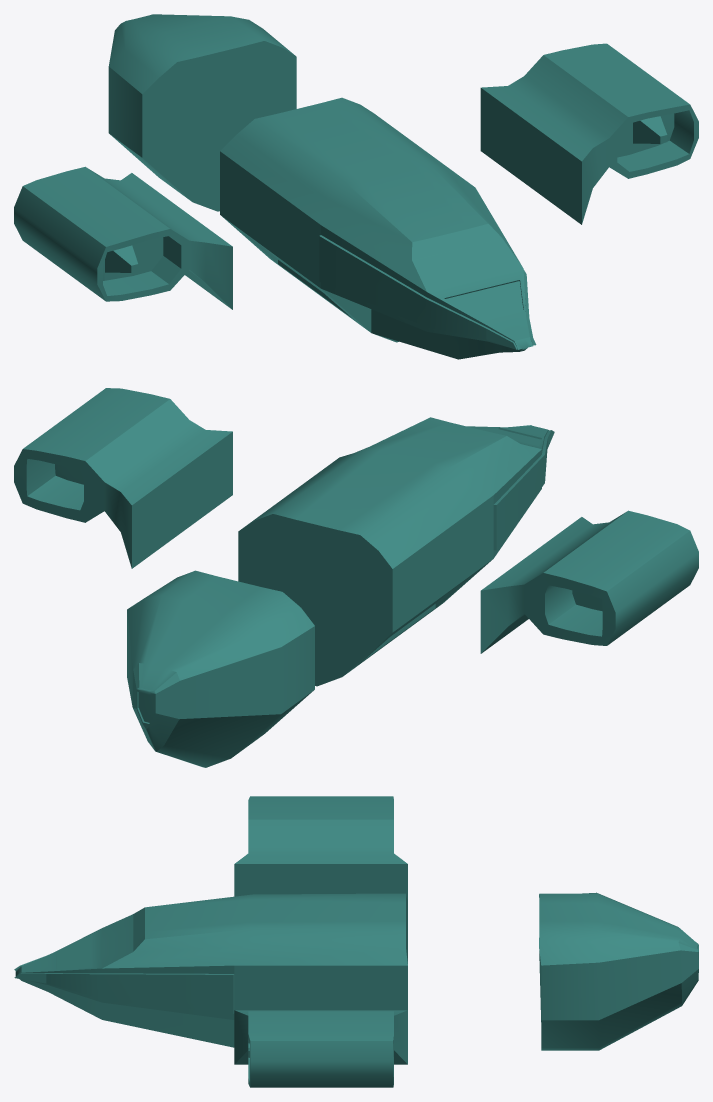
The model's file is DestroyedAllyBomber.fbx.
The picture shows the model from 3 angles, top to bottom: view 1: azimuth 30°, elevation 25°; view 2: azimuth 150°, elevation 25°; view 3: azimuth 270°, elevation 25°; orthographic projection. The views are drawn at different scales.
Parts seen in each view (by area): view 1: polySurface32, polySurface30, polySurface33, polySurface28; view 2: polySurface32, polySurface30, polySurface33, polySurface28; view 3: polySurface32, polySurface30, polySurface28, polySurface33.
Part boxes in pixels (bbox=[...]): polySurface32: bbox=[220, 97, 536, 359]; polySurface30: bbox=[108, 14, 296, 211]; polySurface33: bbox=[480, 43, 698, 224]; polySurface28: bbox=[14, 166, 232, 309]; polySurface32: bbox=[238, 417, 554, 686]; polySurface30: bbox=[127, 570, 314, 767]; polySurface33: bbox=[14, 388, 232, 568]; polySurface28: bbox=[480, 510, 698, 653]; polySurface32: bbox=[14, 893, 407, 1047]; polySurface30: bbox=[539, 892, 698, 1050]; polySurface28: bbox=[234, 796, 407, 899]; polySurface33: bbox=[234, 1010, 407, 1087].
Size of the model in its own units: 144 by 36.88 by 165.
